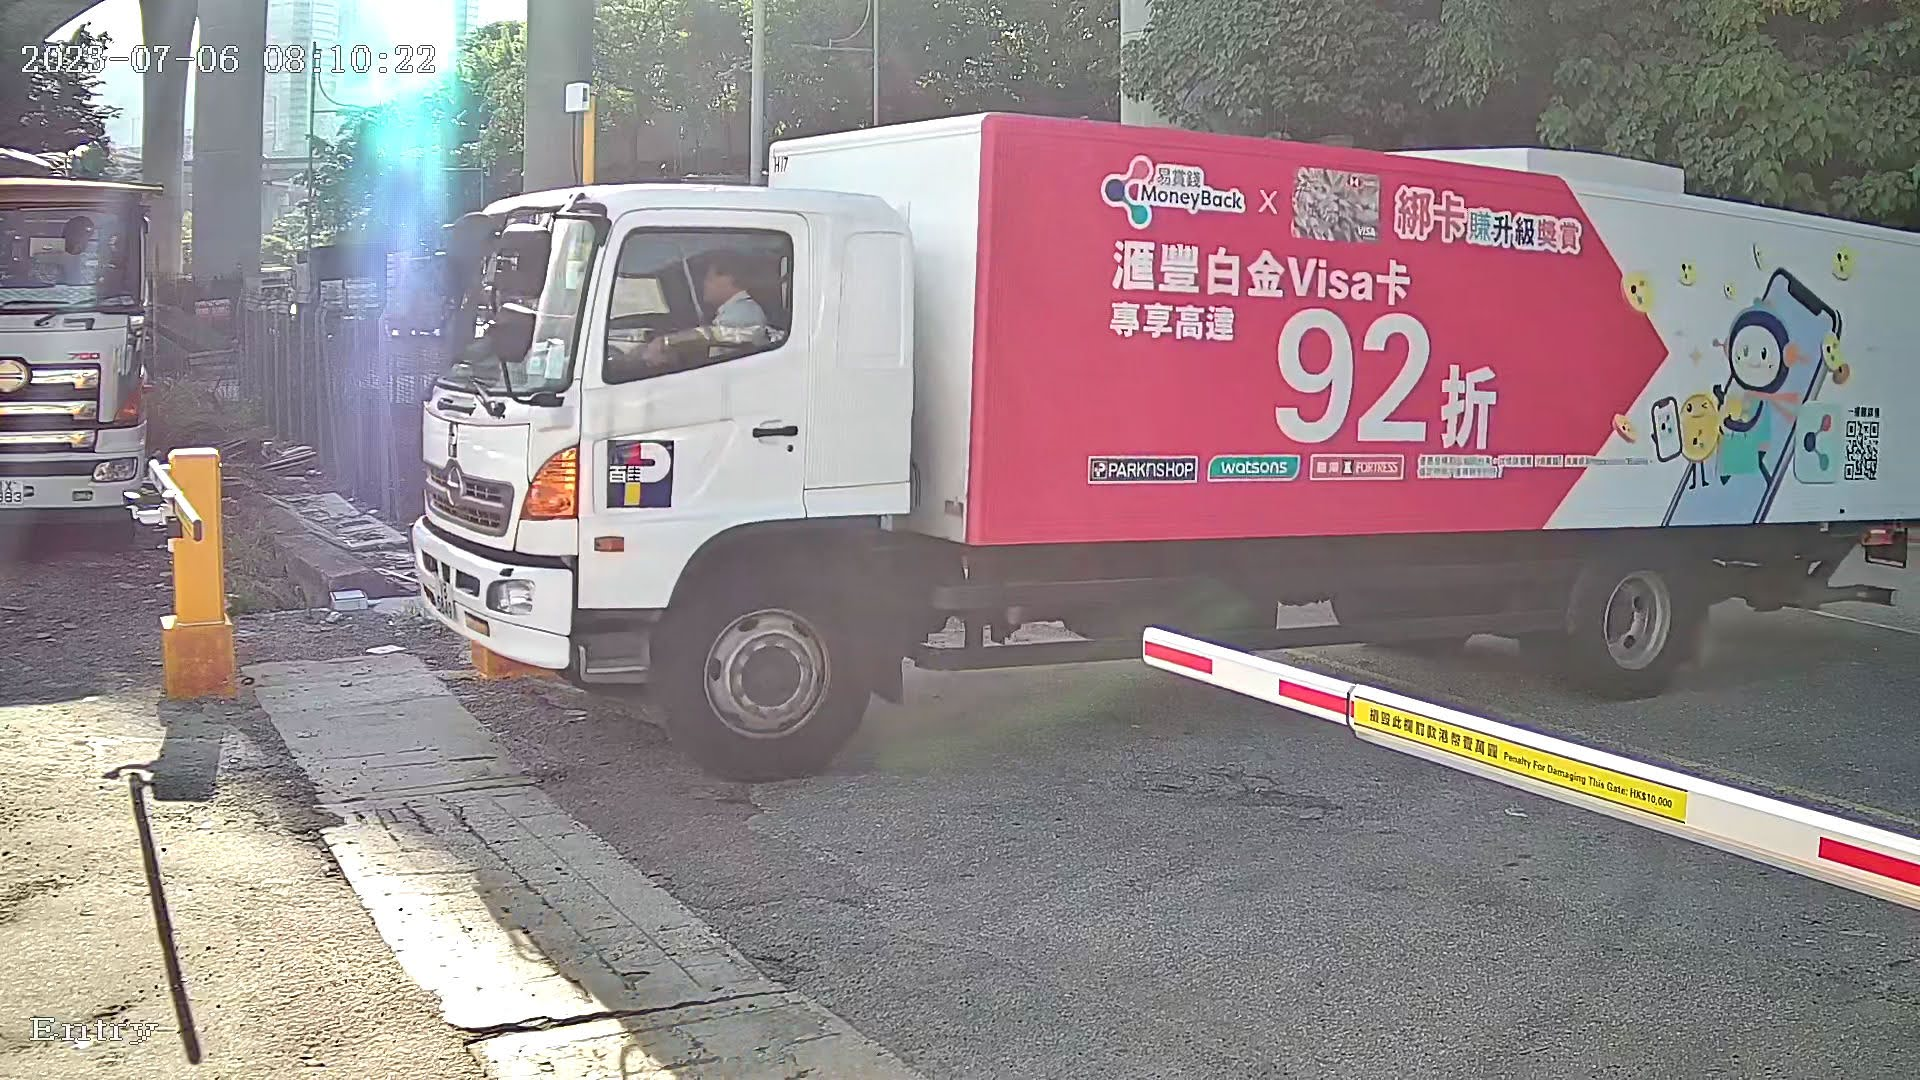truck_large: (357, 94, 1920, 810)
